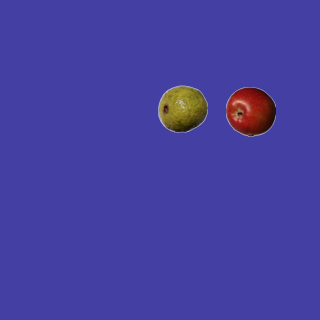Apple Braeburn: (225, 86, 275, 136)
Guava: (157, 83, 207, 133)
